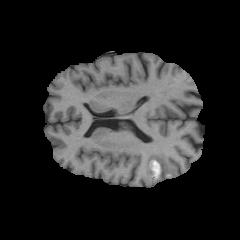glioma: (146, 153, 179, 185)
